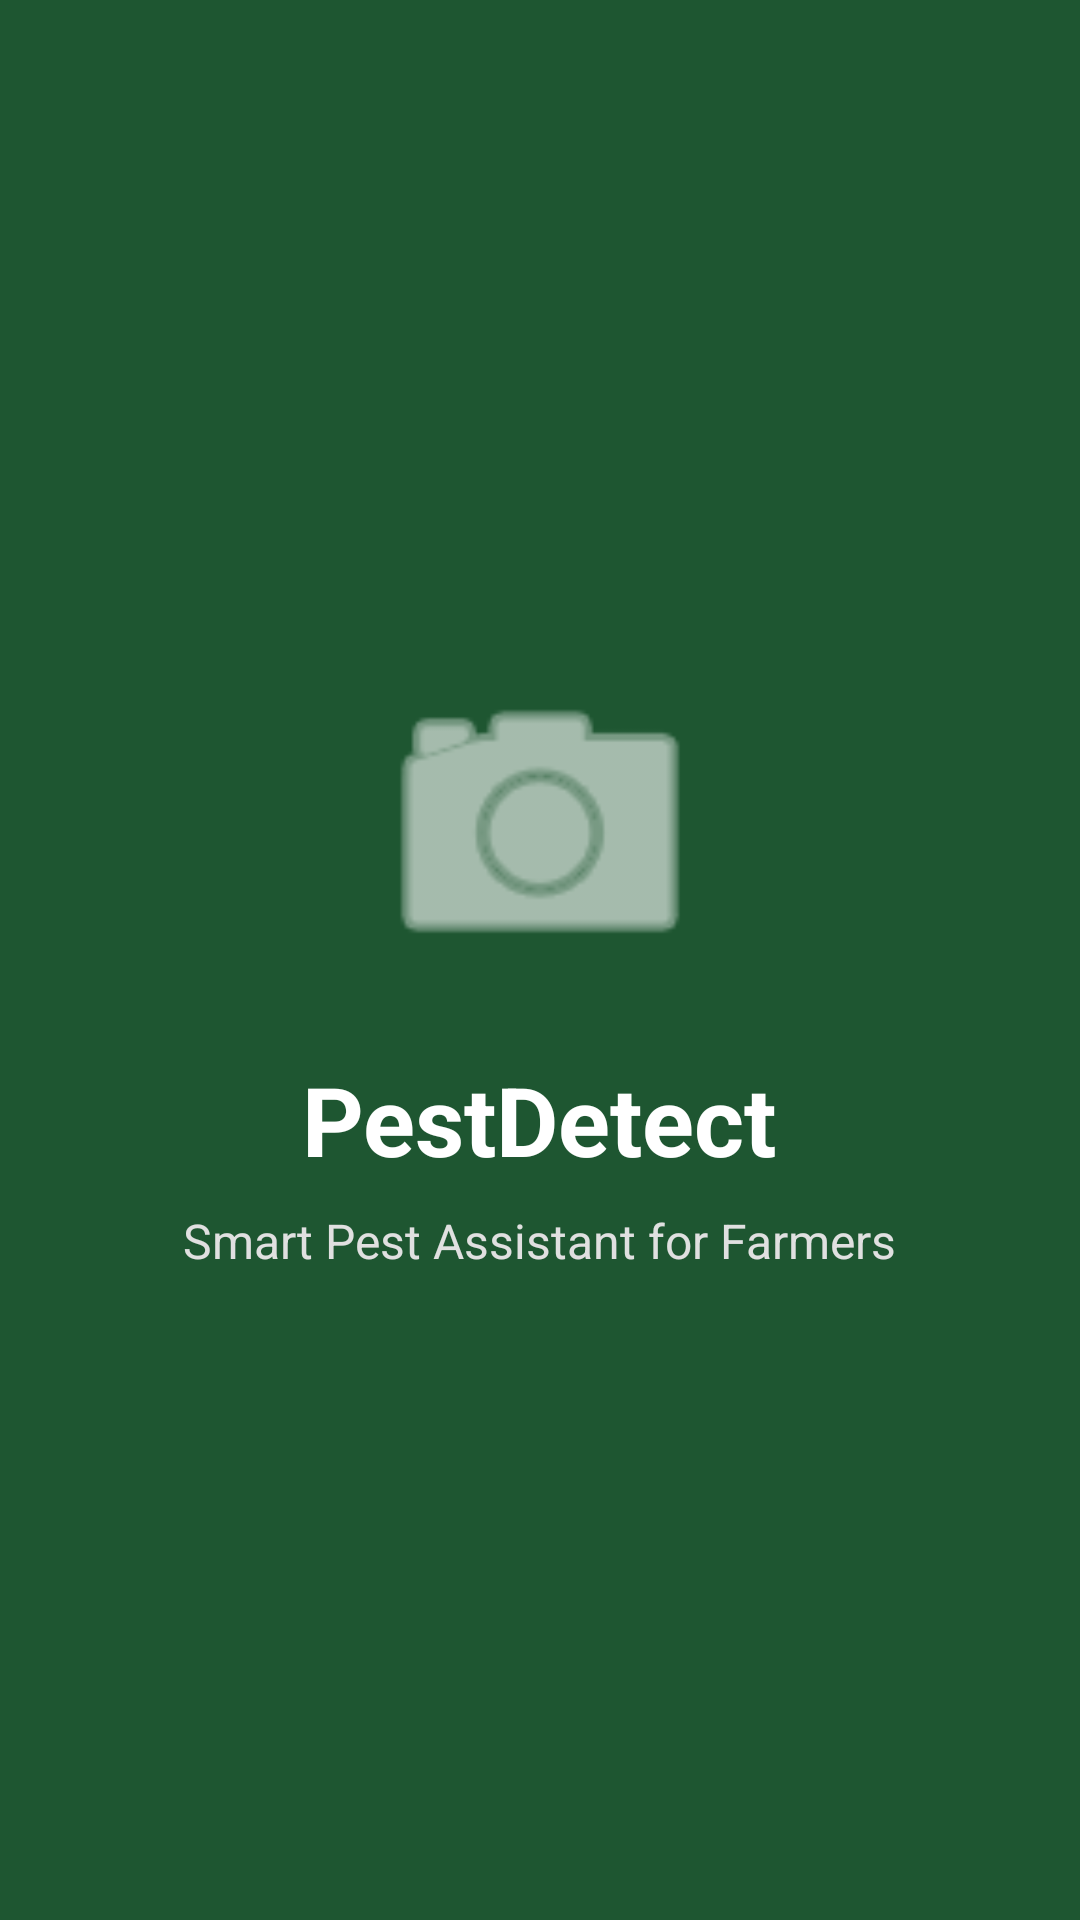

Screen size 1080px×1920px. Icon name, then its box in pixels as [x1=x1, y1=y1, x2=x2, y2=y2]:
camera: [x1=401, y1=710, x2=679, y2=932]
